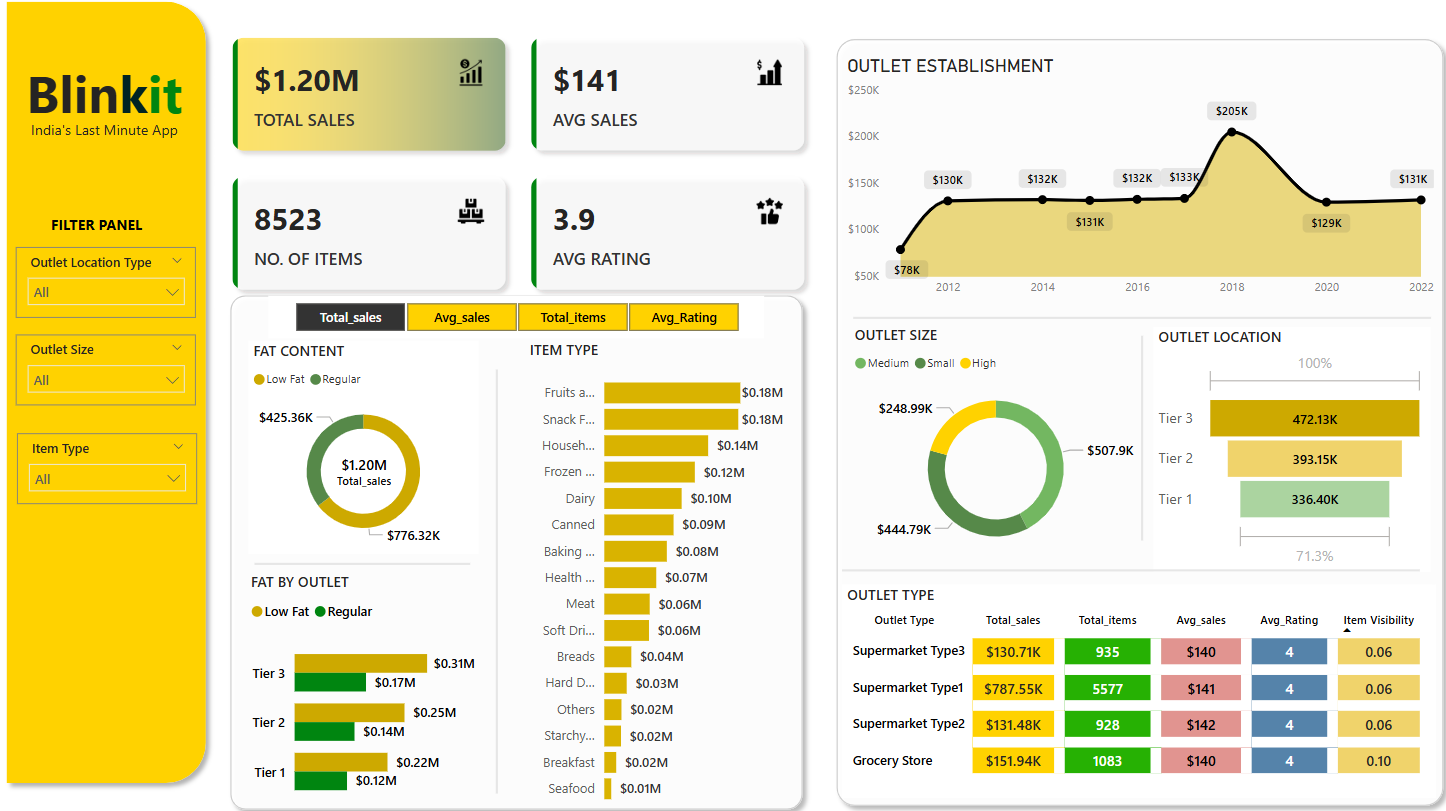

What the dashboard file says about the page in this screenshot:
{"tool":"powerbi","page":{"name":"Page 1","canvas":[1400,800],"ordinal":0},"visuals":[{"type":"shape","box":[22.9,0,204.8,750.4],"z":0},{"type":"textbox","box":[40,55.7,168.6,74.3],"z":1000},{"type":"textbox","box":[40,114.3,168.6,28.6],"z":2000},{"type":"cardVisual","fields":{"Data":["BlinkIT Grocery Data.Total_sales","BlinkIT Grocery Data.Avg_sales","BlinkIT Grocery Data.Total_items","BlinkIT Grocery Data.Avg_Rating"]},"box":[227.1,25.7,570,270],"z":3000},{"type":"shape","box":[232.9,275.7,554.3,500],"z":4000},{"type":"donutChart","title":"FAT CONTENT","fields":{"Y":["BlinkIT Grocery Data.Total_sales"],"Category":["BlinkIT Grocery Data.Item Fat Content"]},"box":[259.4,326.9,216.2,199.7],"z":5000},{"type":"slicer","fields":{"Values":["Metric.Metric"]},"box":[277.5,285,465,40],"z":6000},{"type":"cardVisual","fields":{"Data":["BlinkIT Grocery Data.Total_sales"]},"box":[307.8,413.3,119.5,71.2],"z":7000},{"type":"clusteredBarChart","title":"FAT BY OUTLET","fields":{"Y":["BlinkIT Grocery Data.Total_sales"],"Category":["BlinkIT Grocery Data.Outlet Location Type"],"Series":["BlinkIT Grocery Data.Item Fat Content"]},"box":[256.9,543.1,220,230.2],"z":8000},{"type":"shape","box":[264.5,506.2,202.2,59.8],"z":9000},{"type":"shape","box":[466.2,353.8,51.2,397.5],"z":10000},{"type":"barChart","title":"ITEM TYPE","fields":{"Y":["BlinkIT Grocery Data.Total_sales"],"Category":["BlinkIT Grocery Data.Item Type"]},"box":[517.5,326.2,247.5,446.2],"z":11000},{"type":"shape","box":[801.7,35,586.7,736.7],"z":12000},{"type":"lineChart","title":"OUTLET ESTABLISHMENT","fields":{"Y":["BlinkIT Grocery Data.Total_sales"],"Category":["BlinkIT Grocery Data.Outlet Establishment Year"]},"box":[815.6,58.9,560,235.6],"z":13000},{"type":"shape","box":[825.5,277.7,541.8,55.5],"z":14000},{"type":"donutChart","title":"OUTLET SIZE","fields":{"Category":["BlinkIT Grocery Data.Outlet Size"],"Y":["BlinkIT Grocery Data.Total_sales"]},"box":[822.9,311.6,274.7,225.1],"z":15000},{"type":"shape","box":[1080.6,322.7,33,192.1],"z":16000},{"type":"funnel","title":"OUTLET LOCATION","fields":{"Y":["Sum(BlinkIT Grocery Data.Sales)"],"Category":["BlinkIT Grocery Data.Outlet Location Type"]},"box":[1107.6,313.7,259.6,229.6],"z":17000},{"type":"shape","box":[815,514.8,541.8,55.5],"z":18000},{"type":"pivotTable","title":"OUTLET TYPE","fields":{"Rows":["BlinkIT Grocery Data.Outlet Type"],"Values":["BlinkIT Grocery Data.Total_sales","BlinkIT Grocery Data.Total_items","BlinkIT Grocery Data.Avg_sales","BlinkIT Grocery Data.Avg_Rating","Avg(BlinkIT Grocery Data.Item Visibility)"]},"box":[815,555.3,556.8,199.6],"z":19000},{"type":"slicer","fields":{"Values":["BlinkIT Grocery Data.Outlet Location Type"]},"box":[40.7,239.1,169.2,66.1],"z":20000},{"type":"slicer","fields":{"Values":["BlinkIT Grocery Data.Outlet Size"]},"box":[40.7,320.5,169.2,66.1],"z":21000},{"type":"slicer","fields":{"Values":["BlinkIT Grocery Data.Item Type"]},"box":[42,413.3,169.2,66.1],"z":22000},{"type":"textbox","box":[68.7,203.5,117,35.6],"z":23000}]}

Visuals, with their boxes in screenshot pixels (x1, y1, x2, y2), scaled from the page's 1400x800 canvas onto the 1446x811 screenshot:
shape: crop(24, 0, 235, 761)
textbox: crop(41, 56, 215, 132)
textbox: crop(41, 116, 215, 145)
cardVisual - BlinkIT Grocery Data.Total_sales x BlinkIT Grocery Data.Avg_sales: crop(235, 26, 823, 300)
shape: crop(241, 279, 813, 786)
"FAT CONTENT" donutChart: crop(268, 331, 491, 534)
slicer - Metric.Metric: crop(287, 289, 767, 329)
cardVisual - BlinkIT Grocery Data.Total_sales: crop(318, 419, 441, 491)
"FAT BY OUTLET" clusteredBarChart: crop(265, 551, 493, 784)
shape: crop(273, 513, 482, 574)
shape: crop(482, 359, 534, 762)
"ITEM TYPE" barChart: crop(535, 331, 790, 783)
shape: crop(828, 35, 1434, 782)
"OUTLET ESTABLISHMENT" lineChart: crop(842, 60, 1421, 299)
shape: crop(853, 282, 1412, 338)
"OUTLET SIZE" donutChart: crop(850, 316, 1134, 544)
shape: crop(1116, 327, 1150, 522)
"OUTLET LOCATION" funnel: crop(1144, 318, 1412, 551)
shape: crop(842, 522, 1401, 578)
"OUTLET TYPE" pivotTable: crop(842, 563, 1417, 765)
slicer - BlinkIT Grocery Data.Outlet Location Type: crop(42, 242, 217, 309)
slicer - BlinkIT Grocery Data.Outlet Size: crop(42, 325, 217, 392)
slicer - BlinkIT Grocery Data.Item Type: crop(43, 419, 218, 486)
textbox: crop(71, 206, 192, 242)
